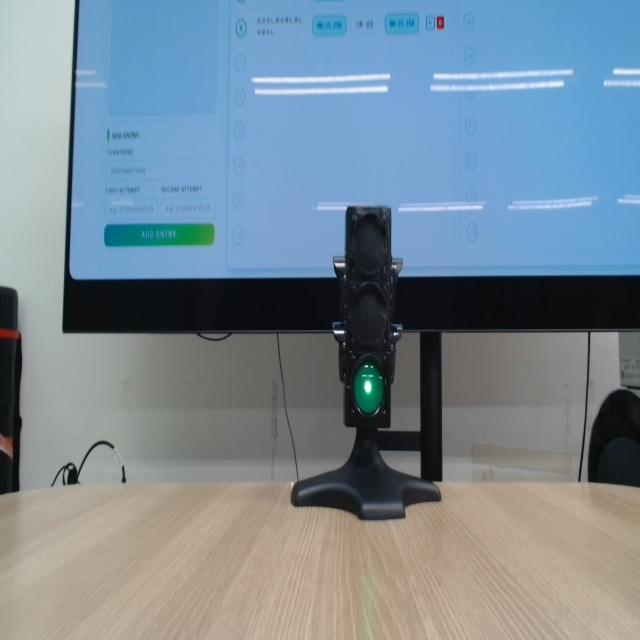green_light: (354, 363, 384, 415)
